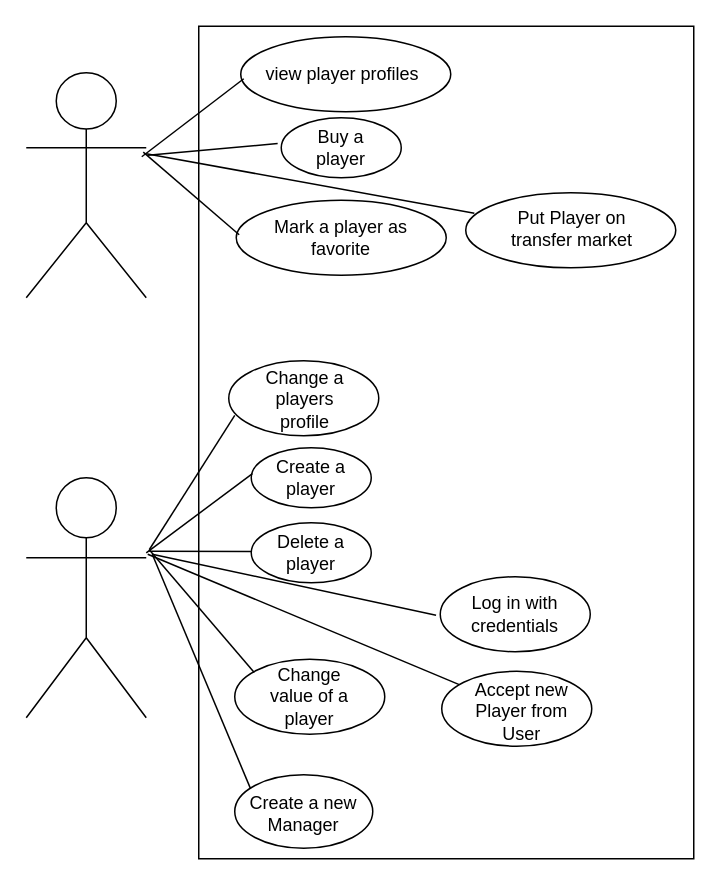
Some shapes in this 720 by 885 pixel diagram are drawn without their labels. Here are the shapes that lost their labels. From the top down, the box of each, then its label:
(25, 71, 146, 298): User
(25, 476, 146, 718): Manager
